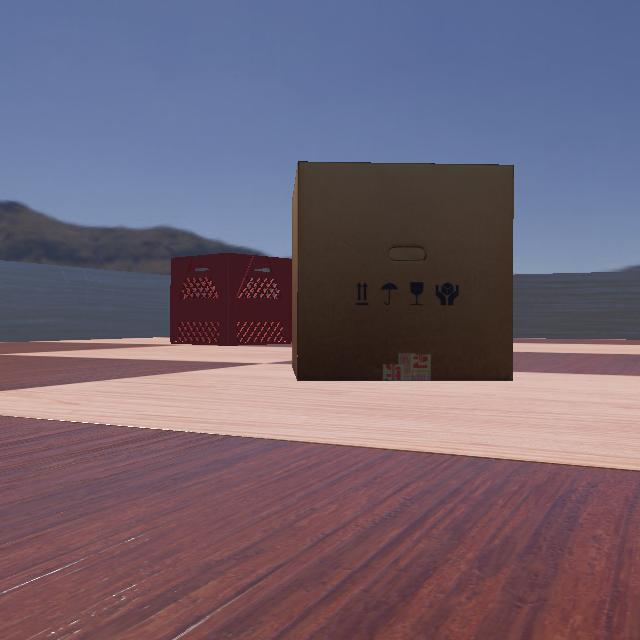cardboard-box: (284, 161, 516, 381), (284, 161, 516, 381)
plastic-crate: (157, 252, 293, 346)
